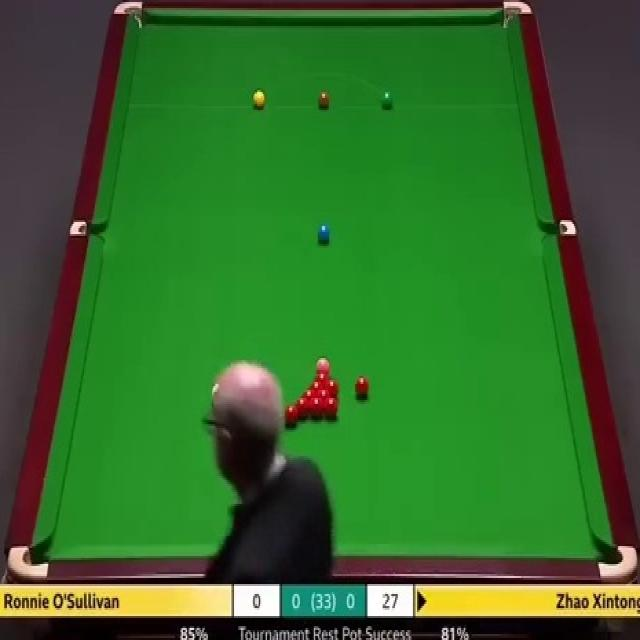blue-ball: (316, 222, 330, 247)
brown-ball: (317, 90, 330, 109)
green-ball: (381, 90, 394, 109)
pink-ball: (315, 357, 331, 374)
red-ball: (295, 396, 311, 421), (324, 396, 340, 419), (285, 403, 299, 429), (355, 376, 370, 399), (310, 396, 324, 420), (316, 389, 332, 408), (300, 388, 316, 406), (324, 380, 339, 399), (307, 380, 324, 393)
yellow-ball: (252, 90, 265, 109)
